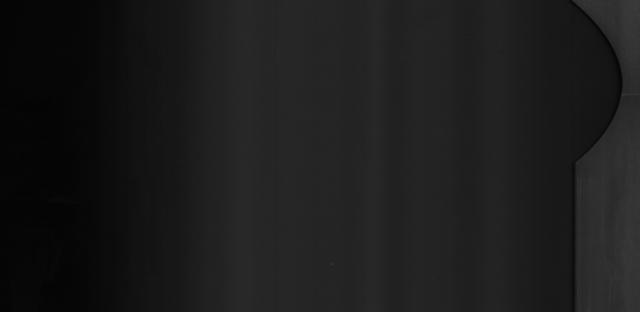crescent_gap: (555, 0, 627, 172)
